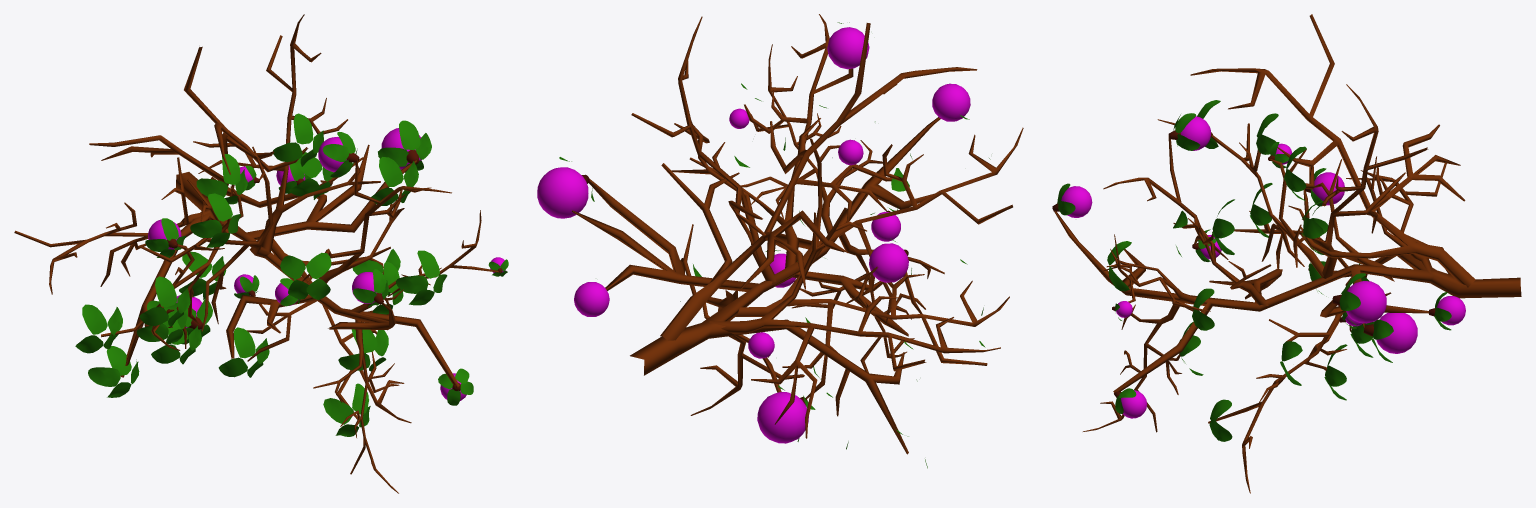
Rendered from Krystbush_with_Berries.gltf.
The picture shows the model from 3 angles, left to right: view 1: azimuth 30°, elevation 25°; view 2: azimuth 150°, elevation 25°; view 3: azimuth 270°, elevation 25°; orthographic projection. The views are drawn at different scales.
Parts seen in each view (by area): view 1: Krystberry_Withberries.006; view 2: Krystberry_Withberries.006; view 3: Krystberry_Withberries.006.
Boxes of the visible parts, x1=… form: Krystberry_Withberries.006: x1=14, y1=14, x2=508, y2=493; Krystberry_Withberries.006: x1=537, y1=14, x2=1023, y2=468; Krystberry_Withberries.006: x1=1052, y1=14, x2=1521, y2=493.
Size of the model in its own units: 110 by 109 by 118.
